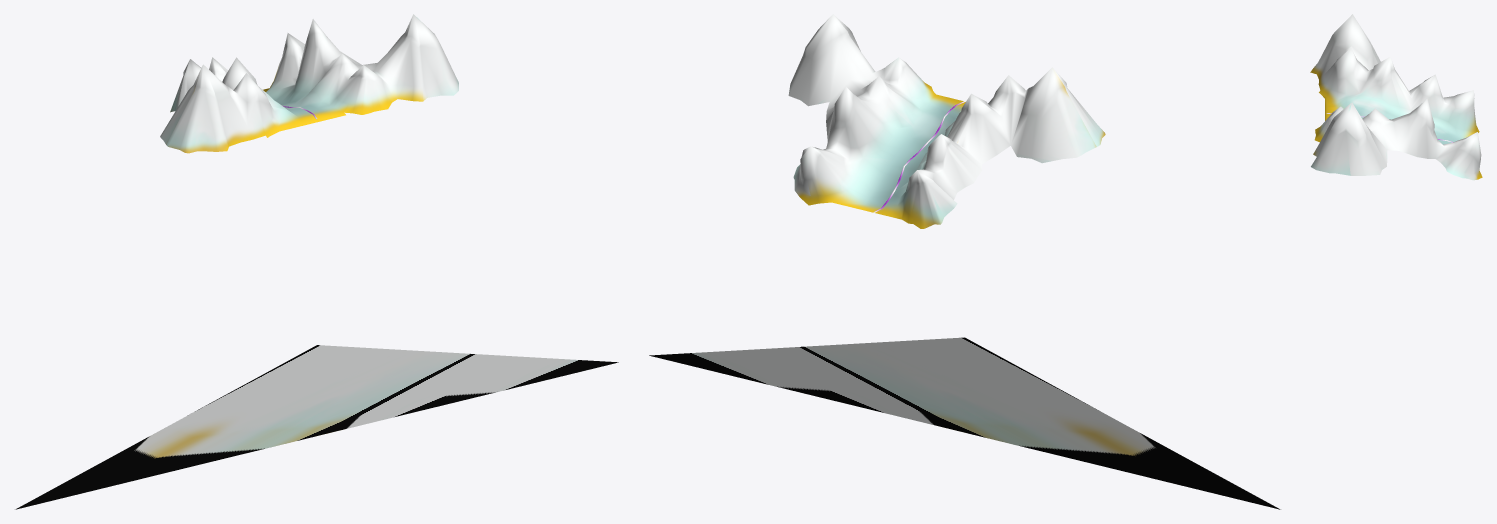
The model's file is L_MountsSnow.fbx.
The picture shows the model from 3 angles, left to right: view 1: azimuth 30°, elevation 25°; view 2: azimuth 150°, elevation 25°; view 3: azimuth 270°, elevation 25°; orthographic projection. The views are drawn at different scales.
Parts seen in each view (by area): view 1: Obj, LocMountSnow; view 2: LocMountSnow, Obj; view 3: LocMountSnow.
Part boxes in pixels (left/top/right/bottom): Obj: left=15, top=345, right=618, bottom=509; LocMountSnow: left=160, top=14, right=458, bottom=153; LocMountSnow: left=788, top=14, right=1105, bottom=228; Obj: left=649, top=337, right=1280, bottom=509; LocMountSnow: left=1310, top=14, right=1482, bottom=180.
Bounding box in the file's own units: 200 × 122 × 57.77.
